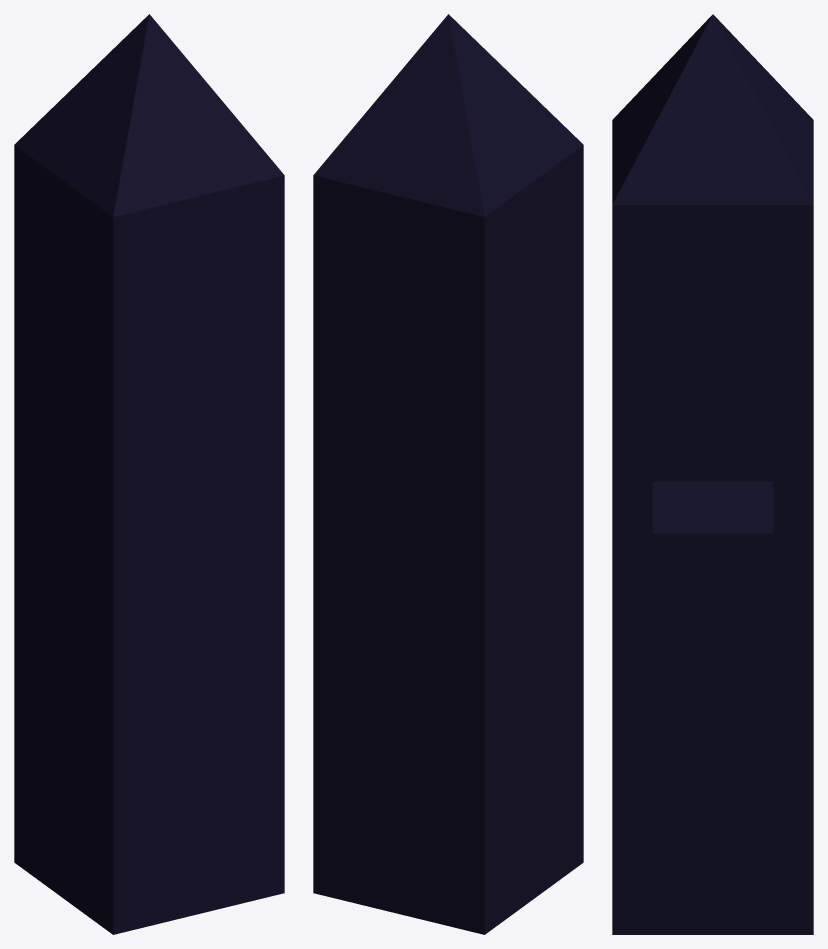
Rendered from Pillar.fbx.
3 renders of one model, left to right at view 1: azimuth 30°, elevation 25°; view 2: azimuth 150°, elevation 25°; view 3: azimuth 270°, elevation 25°, orthographic.
Parts seen in each view (by area): view 1: pillar; view 2: pillar; view 3: pillar.
Boxes of the visible parts, <box> form: pillar: <box>14,14,284,934</box>; pillar: <box>313,14,583,934</box>; pillar: <box>612,14,813,934</box>.
Bounding box in the file's own units: 100 × 481 × 100.
